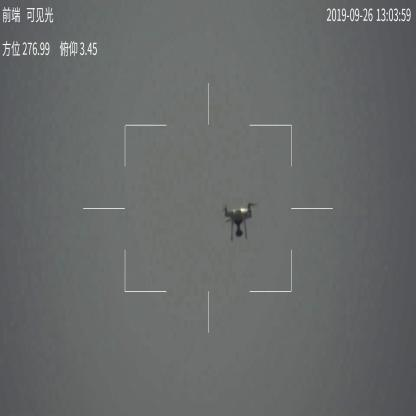uav: (213, 199, 259, 242)
